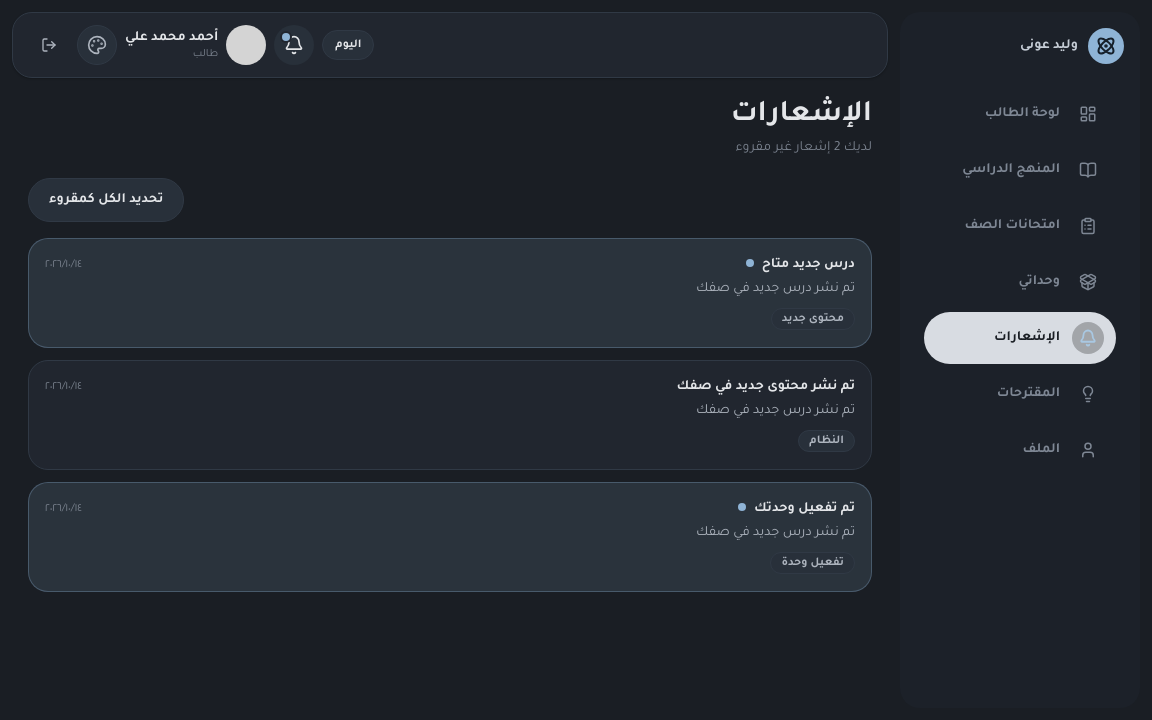
Scenario: StudentNotificationsPage › marks a single notification read on click
What coordinates should you click on to do the following:
click the button with test id "notification-notif-1"
I would click on:
 (808, 265)
Its box is [28,238,872,348].
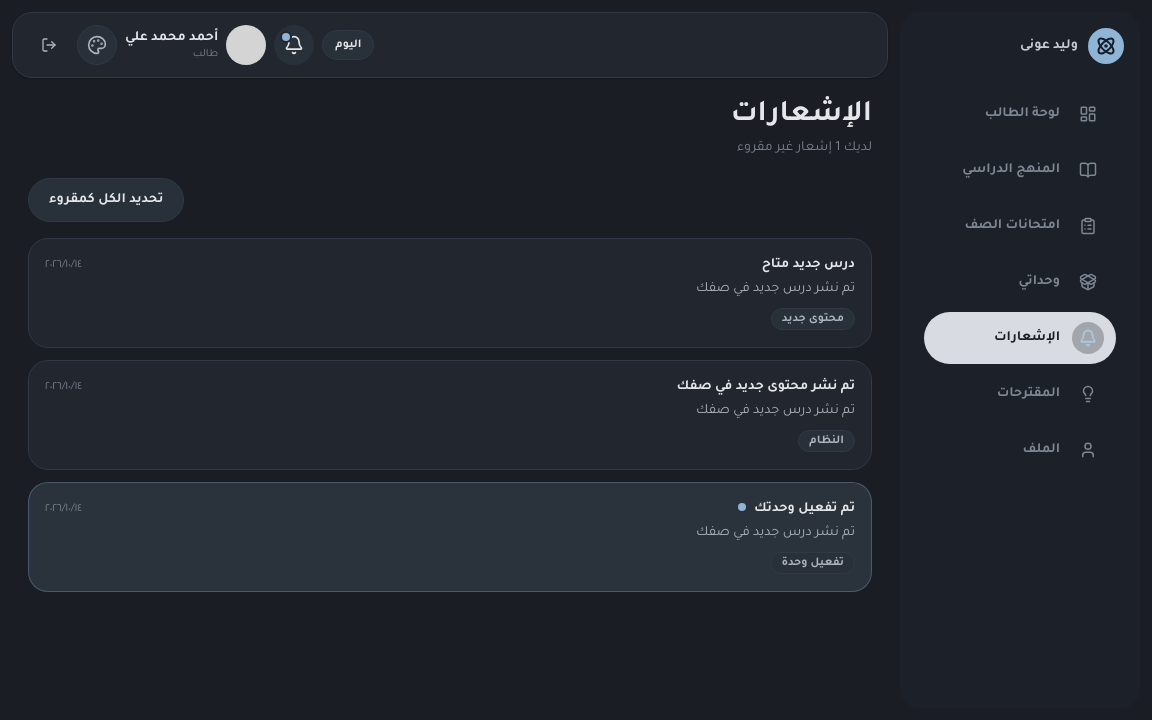
Check: the text "لديك 1 إشعار غير مقروء" is shown, box [731,138,872,158]
